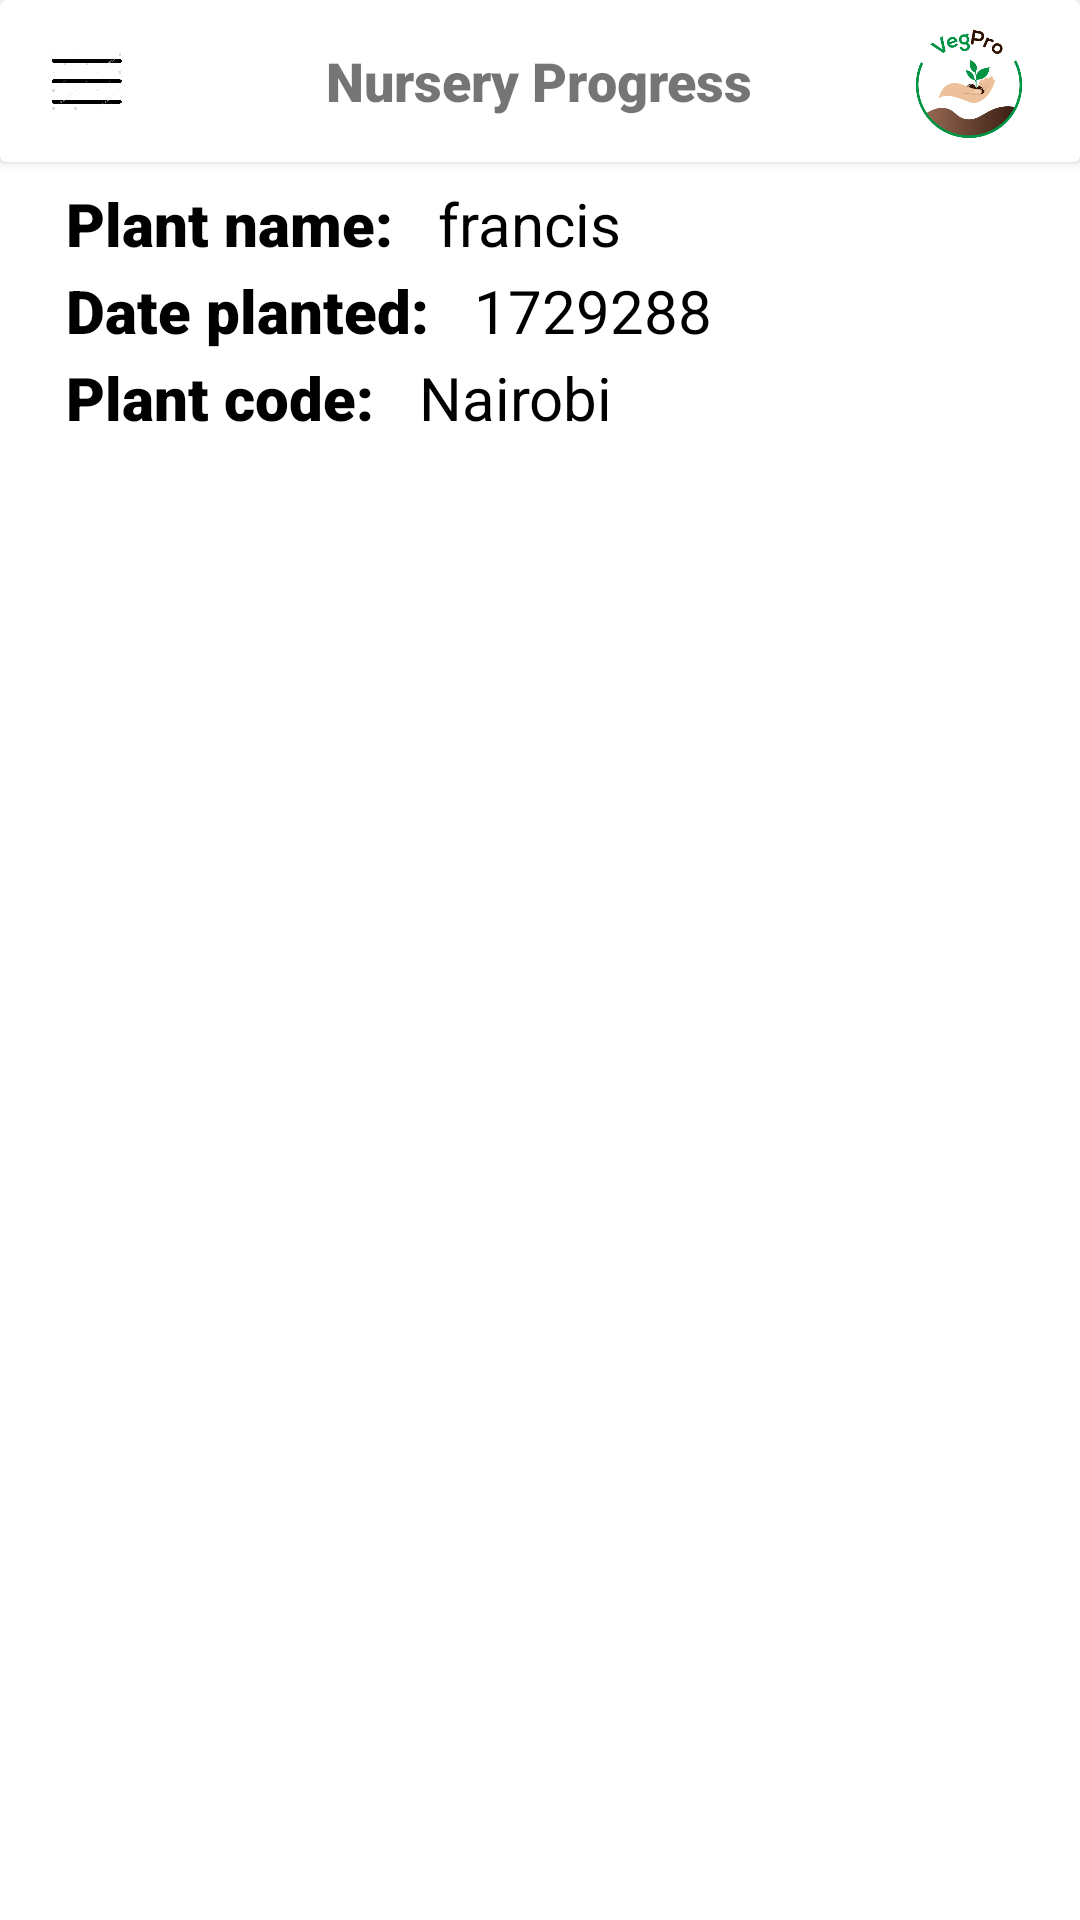

Screen size 1080w x 1920h. Icon name, then its center in pixels as (x,y):
drawer: (87,81)
